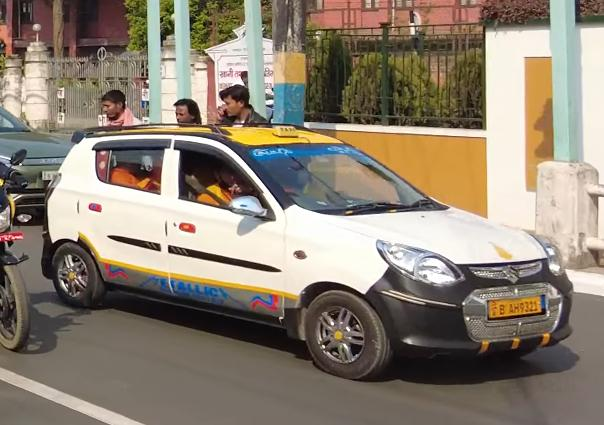bike: (0, 144, 36, 359)
taxi: (29, 109, 571, 383)
